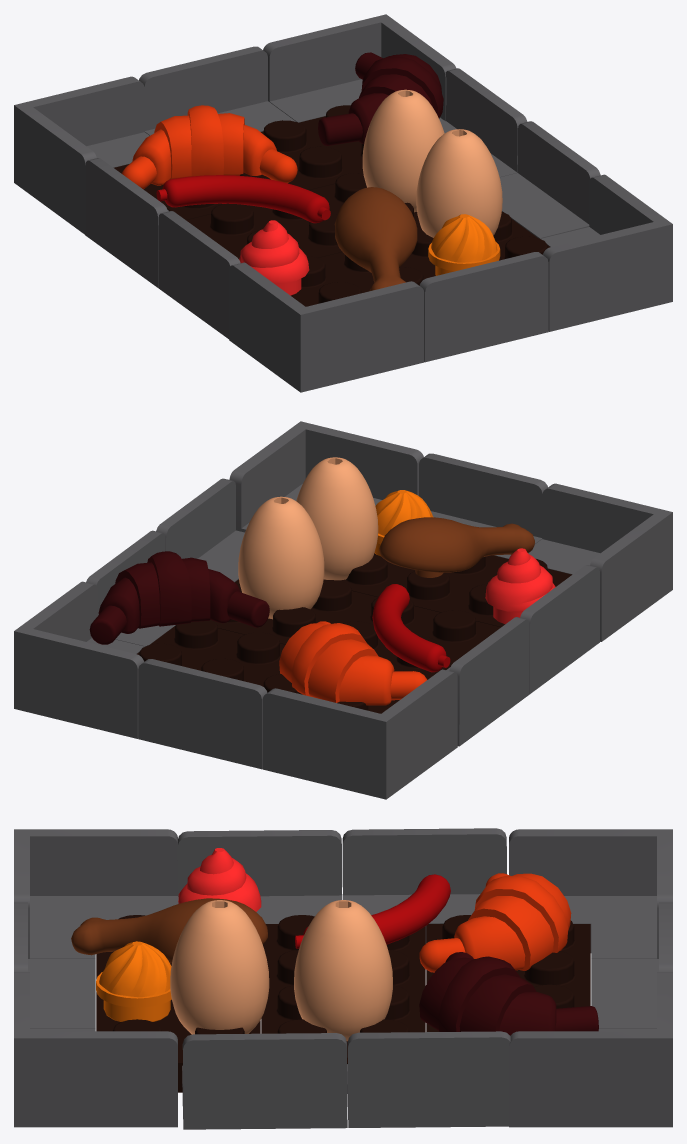
Rendered from foods.dae.
3 renders of one model, top to bottom at view 1: azimuth 30°, elevation 25°; view 2: azimuth 150°, elevation 25°; view 3: azimuth 270°, elevation 25°, orthographic. The views are drawn at different scales.
Visible parts, largest first — view 1: Part.20, Part.19, Part.17, Part.6, Part.18, Part.14, Part.3, Part.8, Part.1, Part.4, Part.5, Part.2 (+9 smaller); view 2: Part.17, Part.18, Part.20, Part.3, Part.16, Part.19, Part.14, Part.2, Part.10, Part.6, Part.1, Part.9 (+9 smaller); view 3: Part.19, Part.18, Part.20, Part.8, Part.7, Part.17, Part.4, Part.1, Part.2, Part.5, Part.16, Part.14 (+9 smaller).
Boxes of the visible parts, left/top/right/bottom form: Part.20: left=229, top=262, right=424, bottom=392; Part.19: left=540, top=174, right=672, bottom=331; Part.17: left=14, top=76, right=149, bottom=234; Part.6: left=419, top=252, right=548, bottom=362; Part.18: left=263, top=14, right=456, bottom=122; Part.14: left=121, top=105, right=297, bottom=189; Part.3: left=139, top=46, right=295, bottom=135; Part.8: left=499, top=121, right=600, bottom=238; Part.1: left=416, top=129, right=502, bottom=237; Part.4: left=85, top=158, right=168, bottom=287; Part.5: left=158, top=211, right=240, bottom=339; Part.2: left=362, top=89, right=444, bottom=212; Part.17: left=262, top=669, right=457, bottom=799; Part.18: left=14, top=581, right=144, bottom=738; Part.20: left=528, top=483, right=672, bottom=641; Part.3: left=138, top=659, right=267, bottom=769; Part.16: left=89, top=551, right=269, bottom=644; Part.19: left=229, top=421, right=423, bottom=532; Part.14: left=279, top=621, right=427, bottom=705; Part.2: left=238, top=496, right=324, bottom=619; Part.10: left=213, top=579, right=500, bottom=679; Part.6: left=419, top=453, right=547, bottom=558; Part.1: left=296, top=457, right=378, bottom=580; Part.9: left=137, top=620, right=427, bottom=713; Part.19: left=14, top=972, right=177, bottom=1127; Part.18: left=509, top=972, right=672, bottom=1127; Part.20: left=14, top=829, right=177, bottom=958; Part.8: left=182, top=1033, right=347, bottom=1129; Part.7: left=347, top=1031, right=510, bottom=1127; Part.17: left=509, top=829, right=672, bottom=958; Part.4: left=342, top=828, right=506, bottom=943; Part.1: left=170, top=900, right=269, bottom=1034; Part.2: left=294, top=900, right=392, bottom=1041; Part.5: left=177, top=830, right=342, bottom=923; Part.16: left=419, top=952, right=598, bottom=1035; Part.14: left=419, top=873, right=571, bottom=972.
Size of the model in its own units: 48.27 by 16.55 by 63.92.
